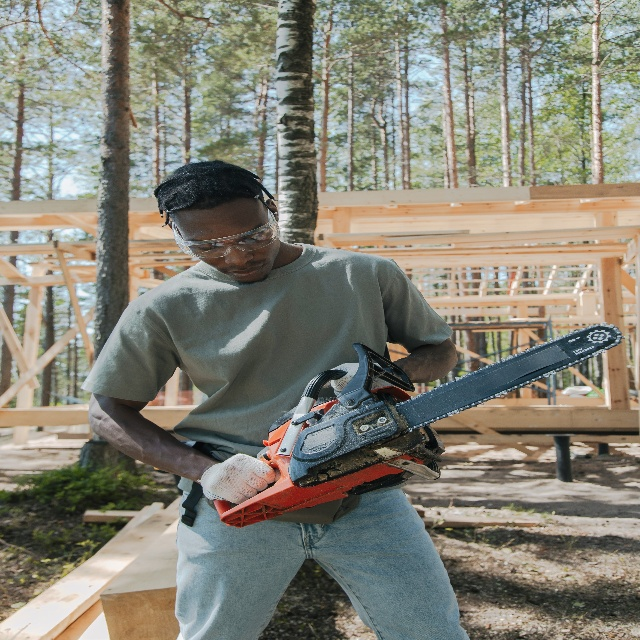Gafas: (172, 219, 278, 258)
Guantes: (200, 449, 277, 504), (330, 360, 385, 391)
